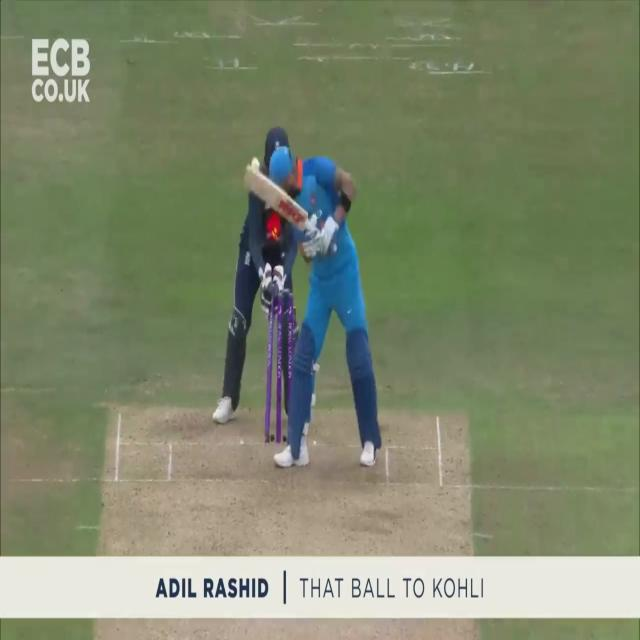ball: (252, 157, 260, 172)
